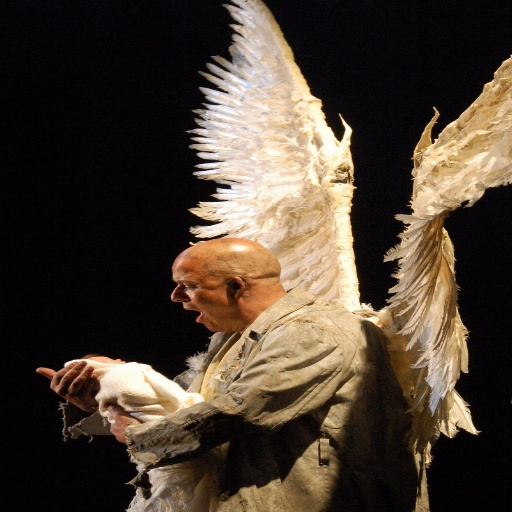hand: (37, 357, 101, 410), (106, 415, 143, 446)
